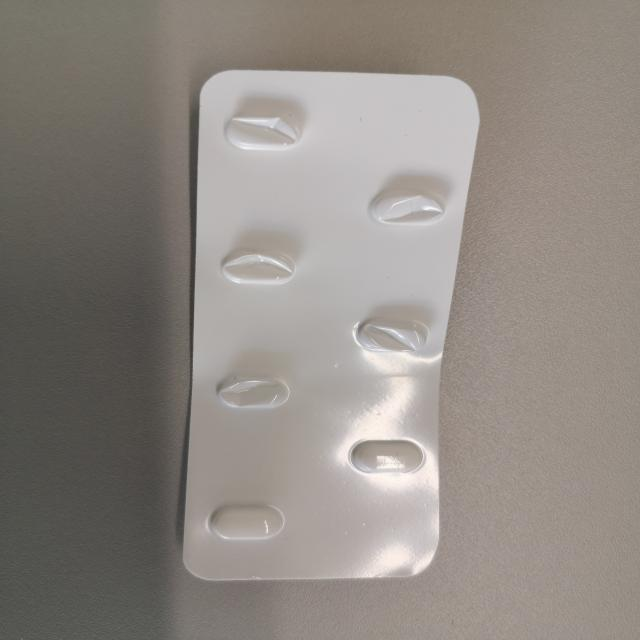Empty: (202, 102, 323, 158), (357, 179, 452, 234), (344, 305, 432, 364), (207, 242, 306, 292), (204, 368, 286, 419)
Pill: (333, 428, 439, 486), (192, 497, 280, 547)
